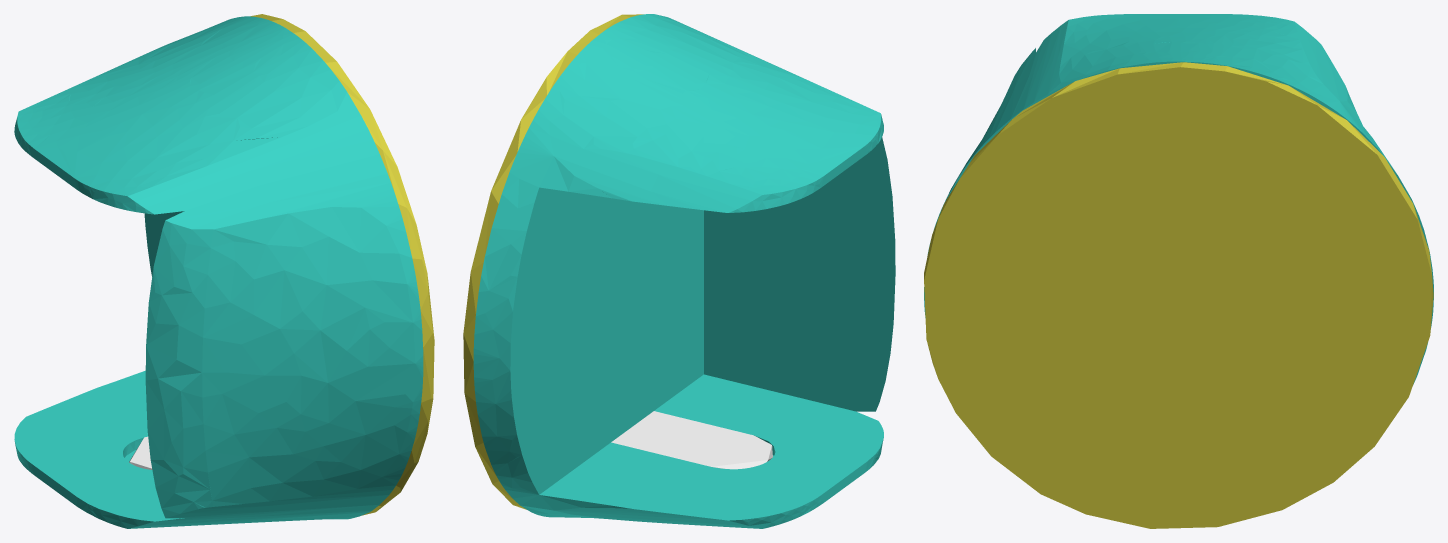
Rendered from shoulder_bracket_dexter_collision.obj.
The picture shows the model from 3 angles, left to right: view 1: azimuth 30°, elevation 25°; view 2: azimuth 150°, elevation 25°; view 3: azimuth 270°, elevation 25°; orthographic projection.
Parts seen in each view (by area): view 1: Body15, Body1; view 2: Body15, Body1, Body3; view 3: Body1, Body15.
Part boxes in pixels (left/top/right/bottom): Body15: left=14, top=16, right=423, bottom=528; Body1: left=251, top=14, right=434, bottom=515; Body15: left=473, top=14, right=895, bottom=528; Body1: left=463, top=14, right=643, bottom=509; Body3: left=611, top=411, right=772, bottom=469; Body1: left=924, top=62, right=1433, bottom=528; Body15: left=924, top=14, right=1433, bottom=384.
Size of the model in its own units: 13.6 by 24 by 23.91.
